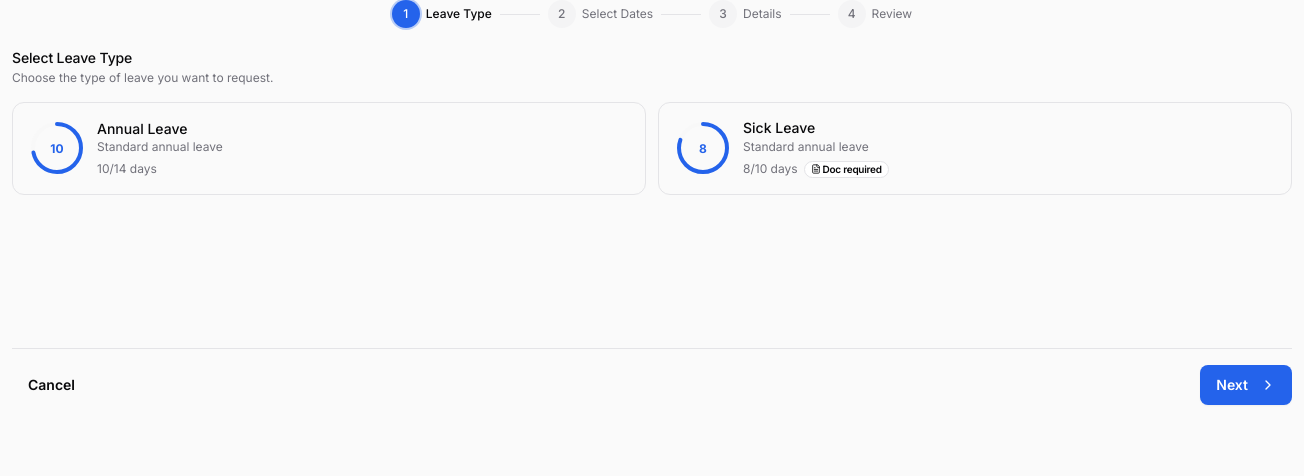
Test case: LeaveRequestWizard › Step 2: Date Selection › prevents advancing without selecting dates
Click the text "Annual Leave": (142, 128) [97, 120, 187, 136]
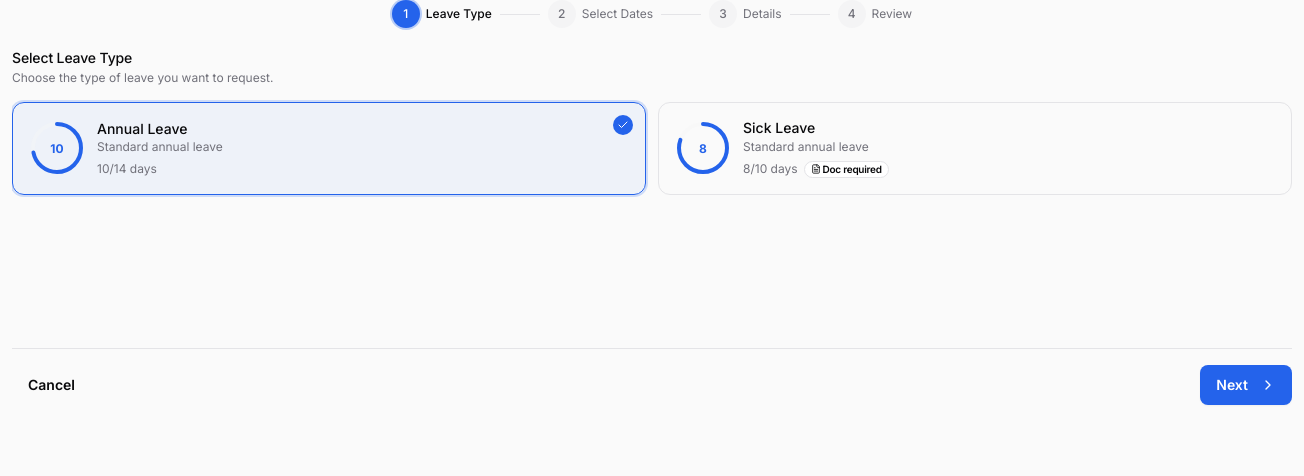
Click the button "Next": (1246, 385) [1200, 365, 1292, 405]
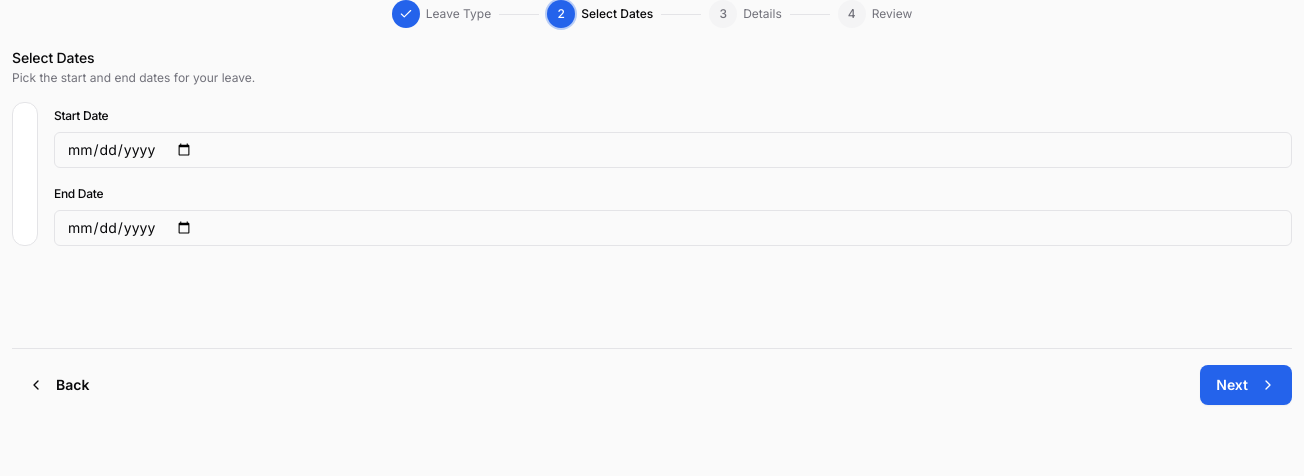
Click the button "Next": (1246, 385) [1200, 365, 1292, 405]
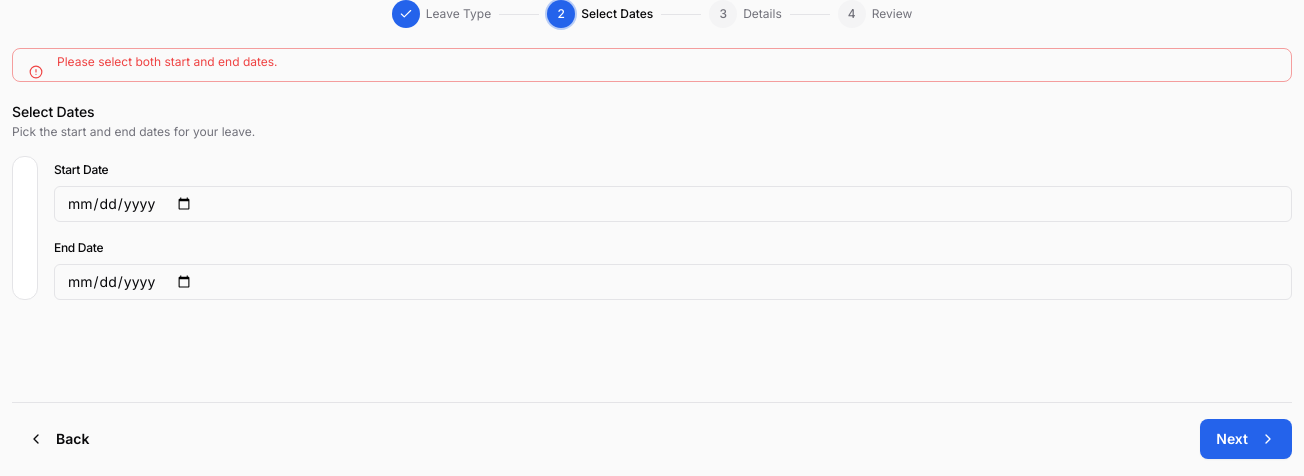
Expected: the text "Please select both start and end dates." is shown, [57, 54, 278, 69]
